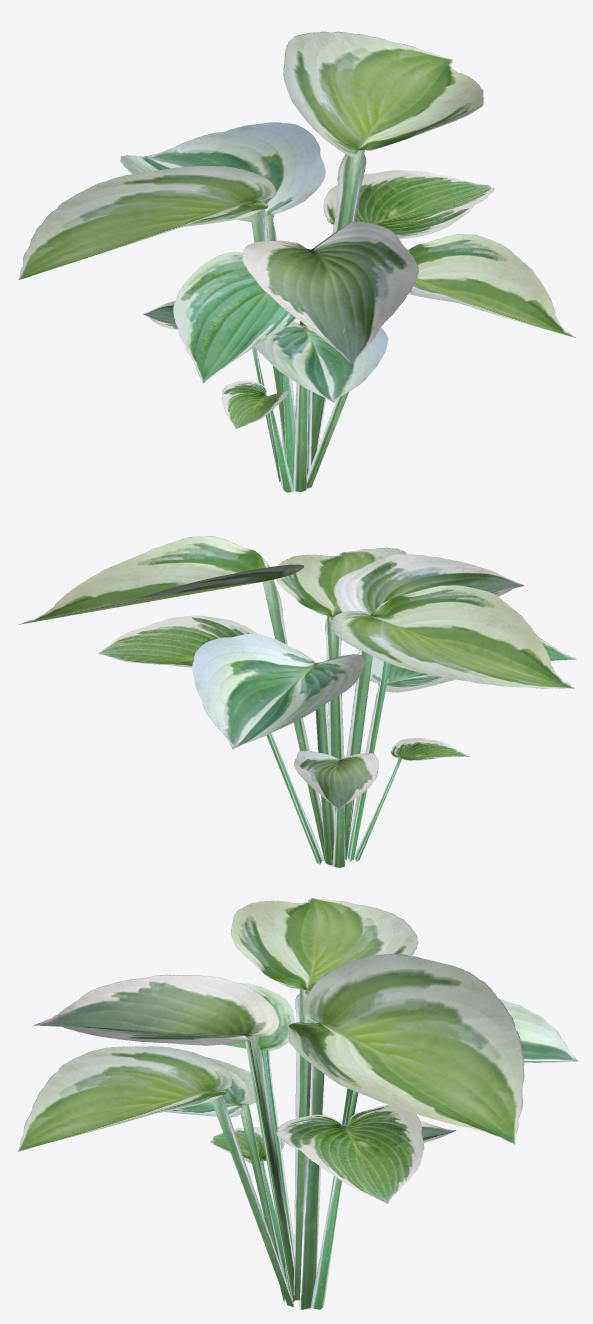
The model's file is plant_small_wg_00B.fbx.
3 renders of one model, top to bottom at view 1: azimuth 30°, elevation 25°; view 2: azimuth 150°, elevation 25°; view 3: azimuth 270°, elevation 25°, orthographic. The views are drawn at different scales.
Parts seen in each view (by area): view 1: plant_small_wg_00B; view 2: plant_small_wg_00B; view 3: plant_small_wg_00B.
Part boxes in pixels (bbox=[...]): plant_small_wg_00B: bbox=[18, 31, 575, 492]; plant_small_wg_00B: bbox=[18, 536, 576, 867]; plant_small_wg_00B: bbox=[17, 897, 578, 1309].
Size of the model in its own units: 67.95 by 45.61 by 60.74.
1 material, 1 textured.
